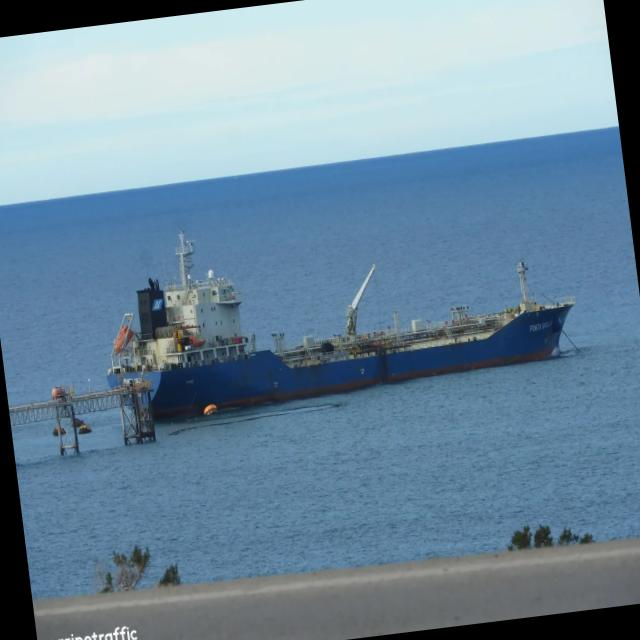Tanker: (108, 230, 574, 418)
